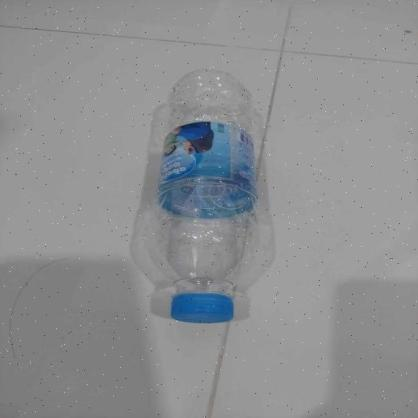bottle: (152, 68, 256, 328)
cap: (167, 292, 235, 324)
label: (154, 122, 256, 205)
